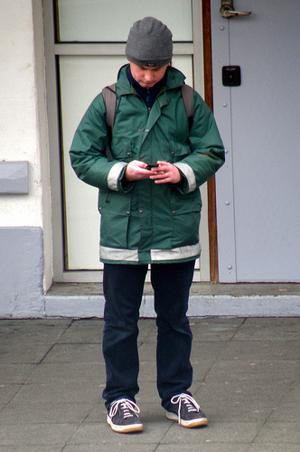person: (70, 17, 226, 436)
